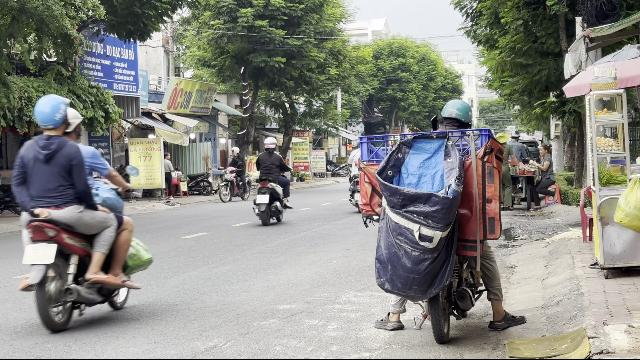helmet: (31, 92, 69, 136), (439, 98, 473, 128), (62, 105, 84, 141)
licenseplate: (22, 244, 58, 264)
motorcyclist: (353, 96, 527, 348), (6, 94, 150, 332)
